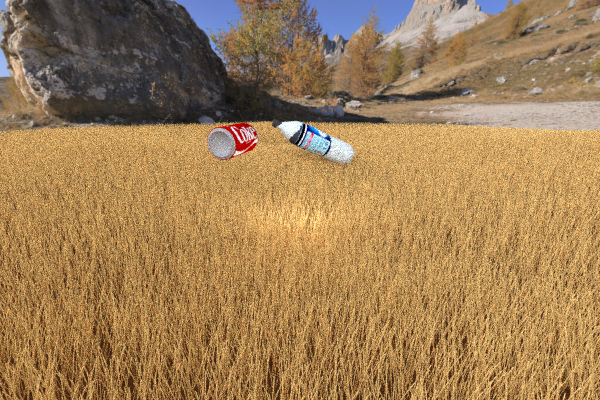Plastic Bottle: (271, 119, 355, 165), (207, 122, 258, 160)
